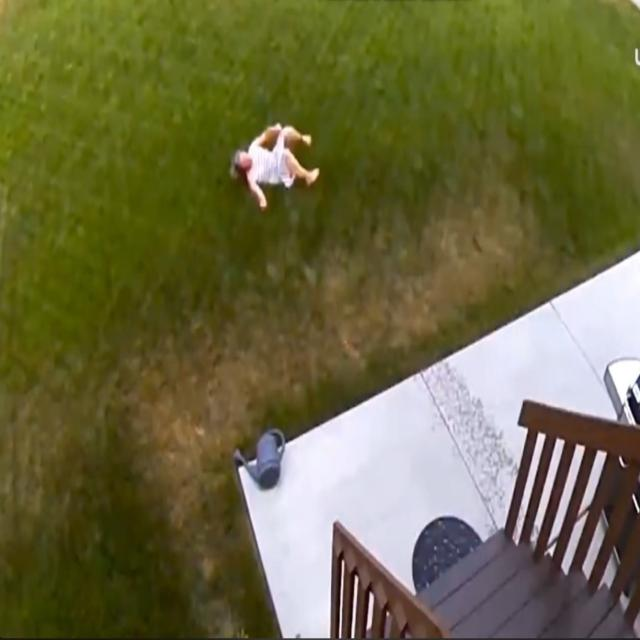fallen: (231, 123, 320, 209)
